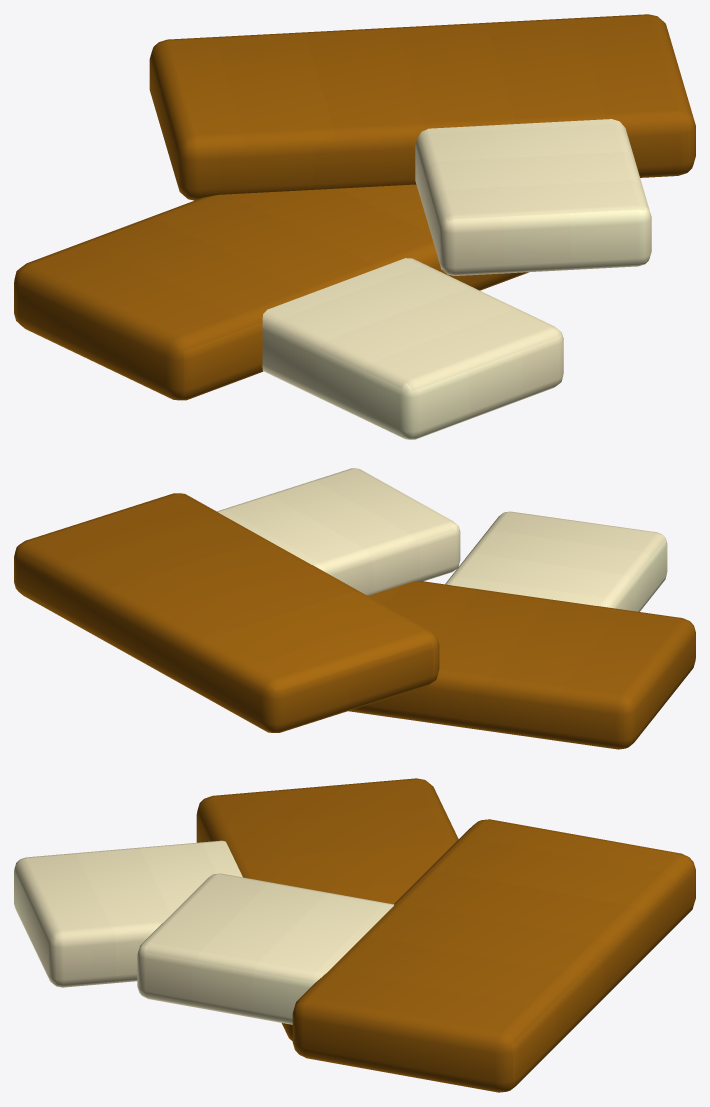
The model's file is mushroom-half.glb.
3 renders of one model, top to bottom at view 1: azimuth 30°, elevation 25°; view 2: azimuth 150°, elevation 25°; view 3: azimuth 270°, elevation 25°, orthographic. The views are drawn at different scales.
Visible parts, largest first — view 1: MushSliceCap_1, MushSliceCap_0, MushSliceStem_0, MushSliceStem_1; view 2: MushSliceCap_1, MushSliceCap_0, MushSliceStem_1, MushSliceStem_0; view 3: MushSliceCap_1, MushSliceStem_1, MushSliceCap_0, MushSliceStem_0.
Boxes of the visible parts, x1,y1,x2,y2 form: MushSliceCap_1: (149, 14, 695, 200); MushSliceCap_0: (14, 184, 528, 400); MushSliceStem_0: (262, 258, 563, 439); MushSliceStem_1: (415, 119, 651, 275); MushSliceCap_1: (14, 493, 439, 732); MushSliceCap_0: (348, 581, 695, 749); MushSliceStem_1: (217, 468, 460, 595); MushSliceStem_0: (445, 511, 667, 611); MushSliceCap_1: (292, 819, 695, 1092); MushSliceStem_1: (137, 873, 394, 1024); MushSliceCap_0: (196, 778, 458, 1040); MushSliceStem_0: (14, 840, 242, 987).
Bounding box in the file's own units: 0.3373 × 0.055 × 0.3075.
Materials: 2 (2 with a texture image).
